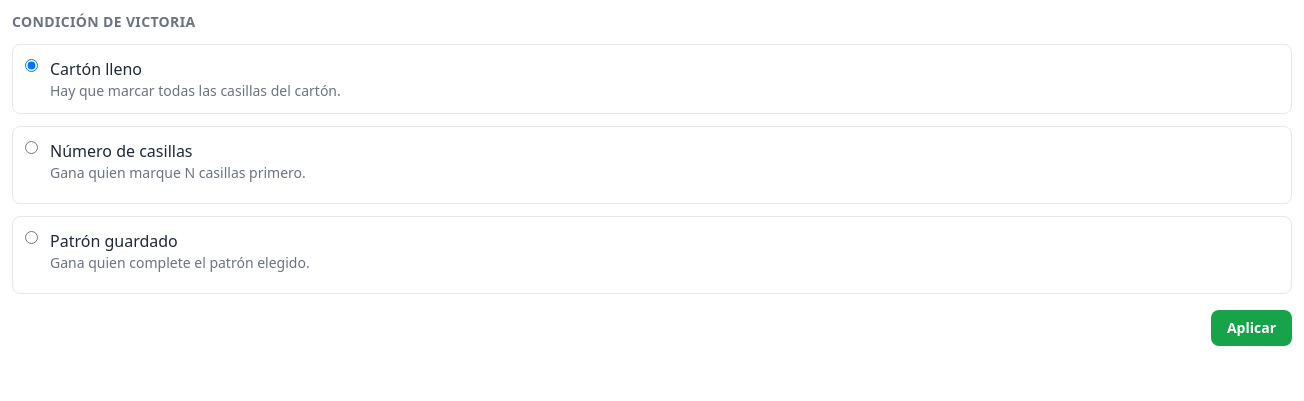
Test: SelectorCondicion › flujo "Ir a elegir patrón" (con onElegirPatron) › botón principal disabled si tipo=patron pero no hay patronId aún
Click the radio button labelled "Patrón guardado Gana quien complete el patrón elegido.": click(32, 238) [25,231,38,244]
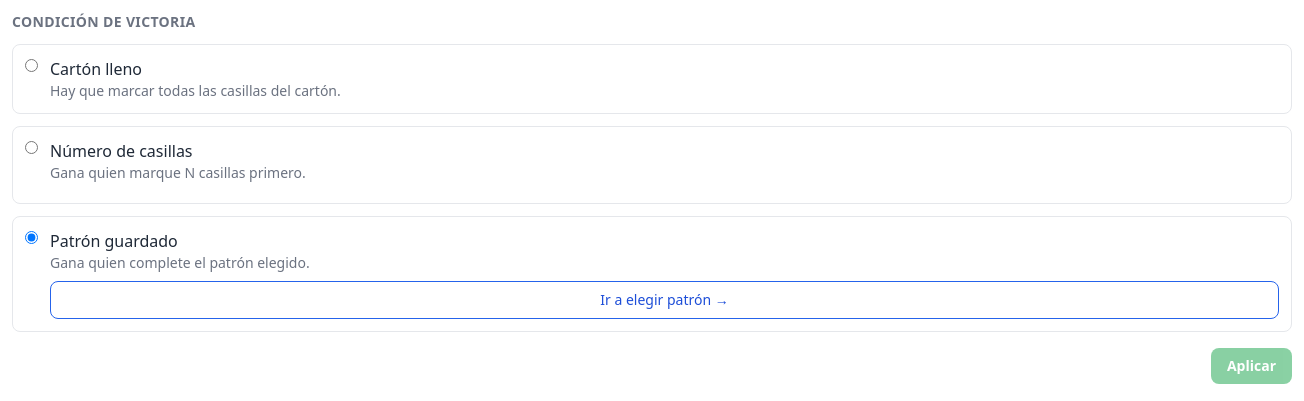
Now the button "Aplicar" is disabled, box [1211,348,1292,384]
